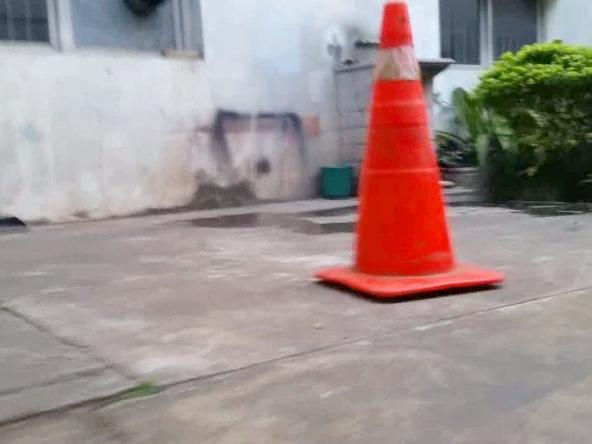0 cone: (313, 0, 504, 300)
